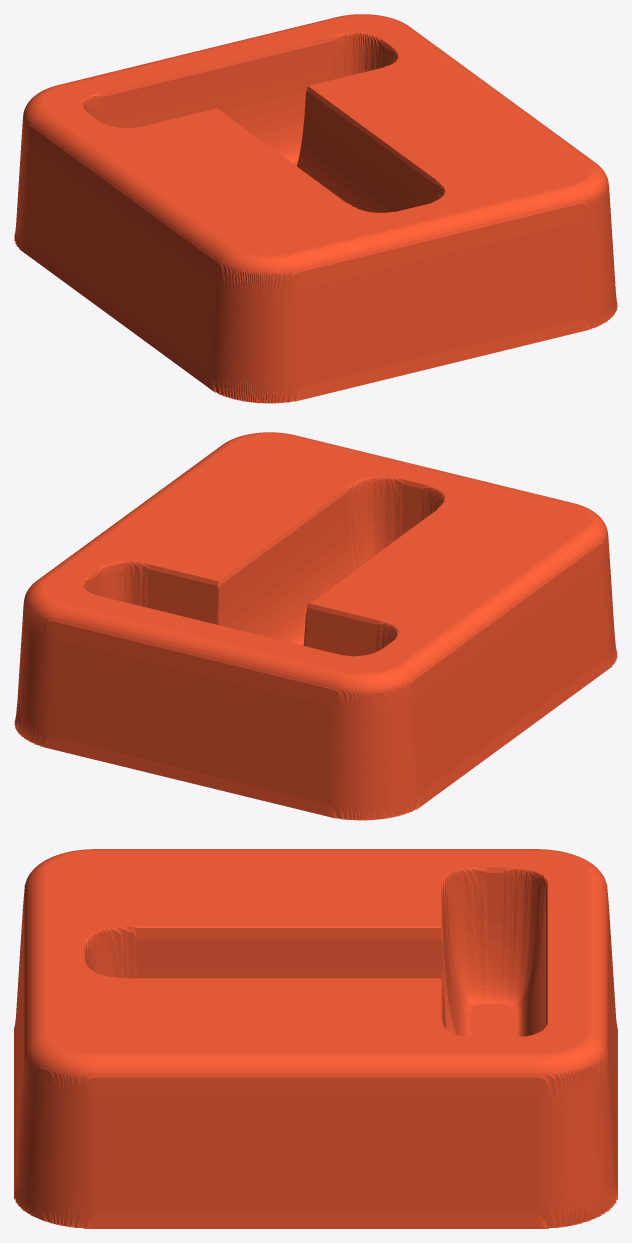
File: mold.glb
The picture shows the model from 3 angles, top to bottom: view 1: azimuth 30°, elevation 25°; view 2: azimuth 150°, elevation 25°; view 3: azimuth 270°, elevation 25°; orthographic projection. The views are drawn at different scales.
Parts seen in each view (by area): view 1: geometry_0; view 2: geometry_0; view 3: geometry_0.
Part boxes in pixels (box(x1,y1,x2,y2)): geometry_0: box(14, 14, 617, 403); geometry_0: box(14, 432, 617, 820); geometry_0: box(14, 849, 617, 1228).
Size of the model in its own units: 0.0604 by 0.0197 by 0.067.
